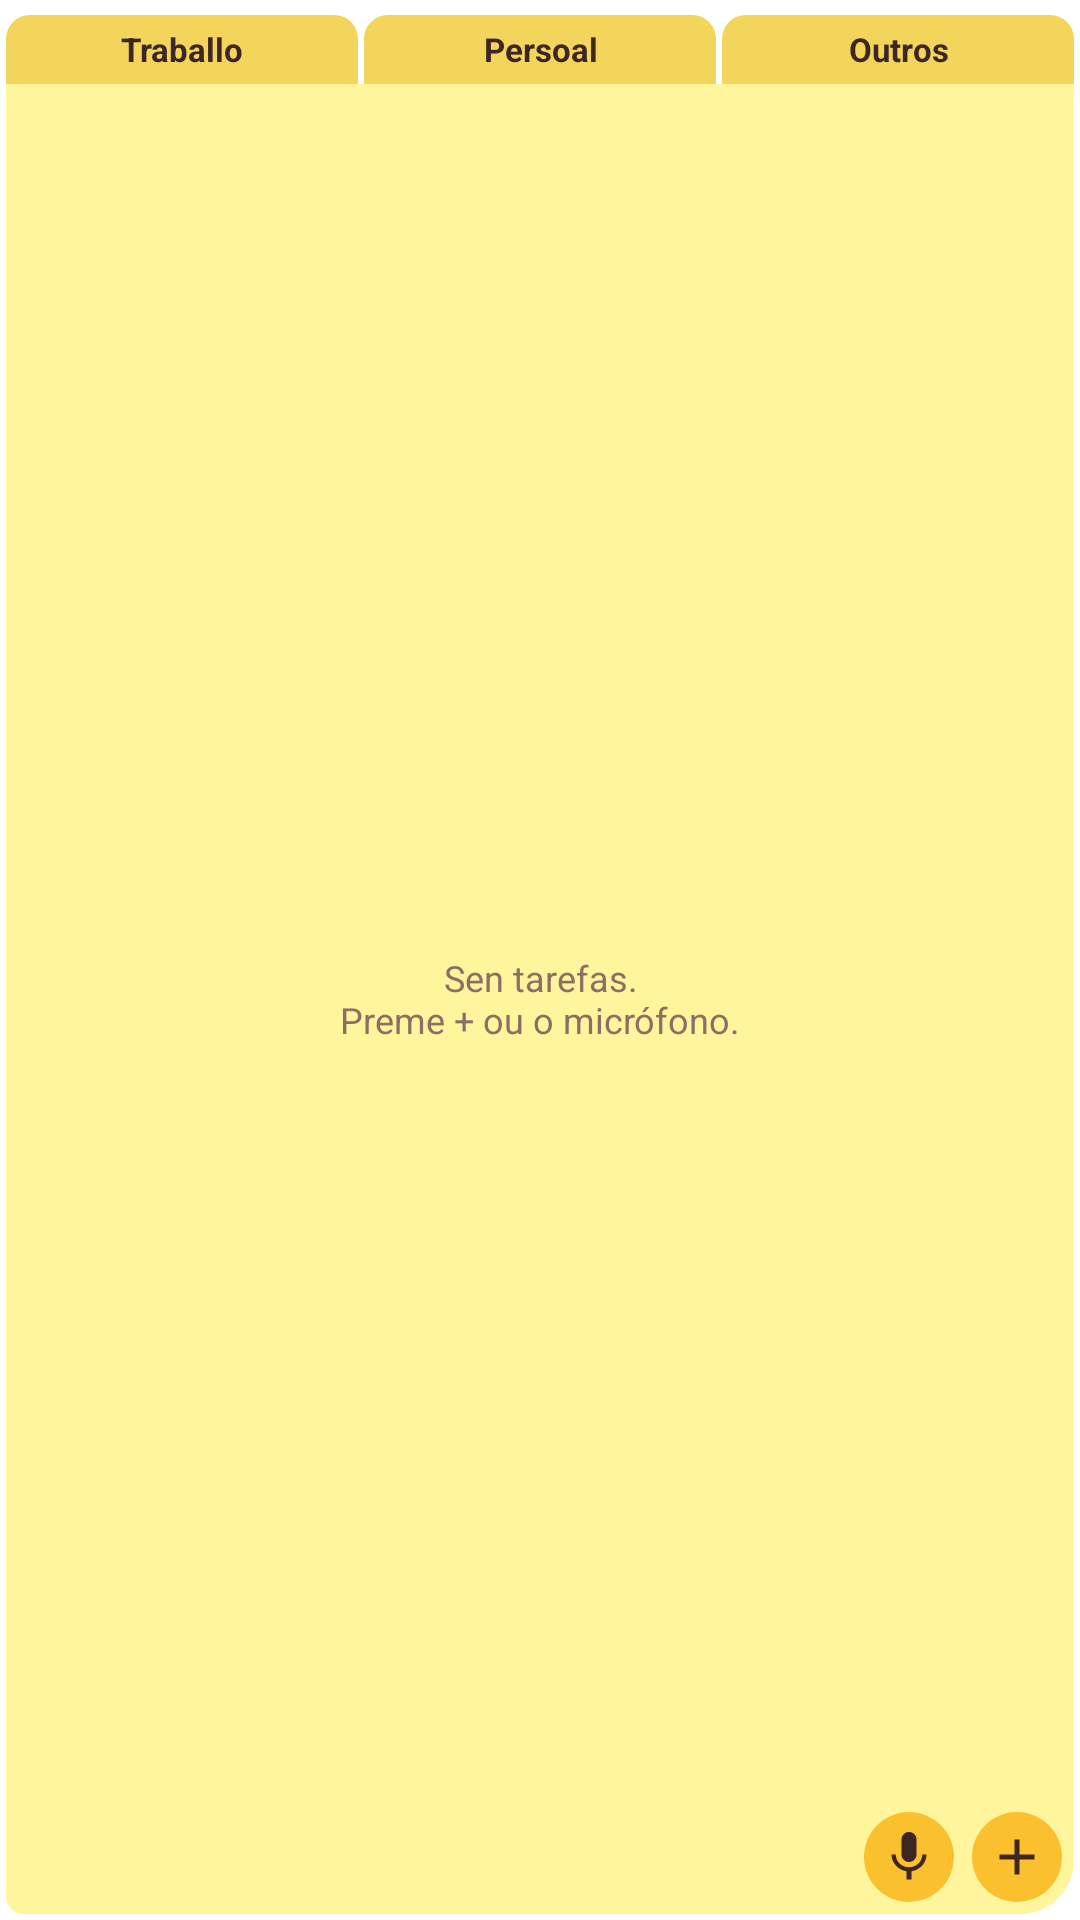

Where to tap for icons on this 1080px×1920px app screen, as (x=x, y=y):
Ditar tarefa: (x=909, y=1857)
Nova tarefa: (x=1017, y=1857)
